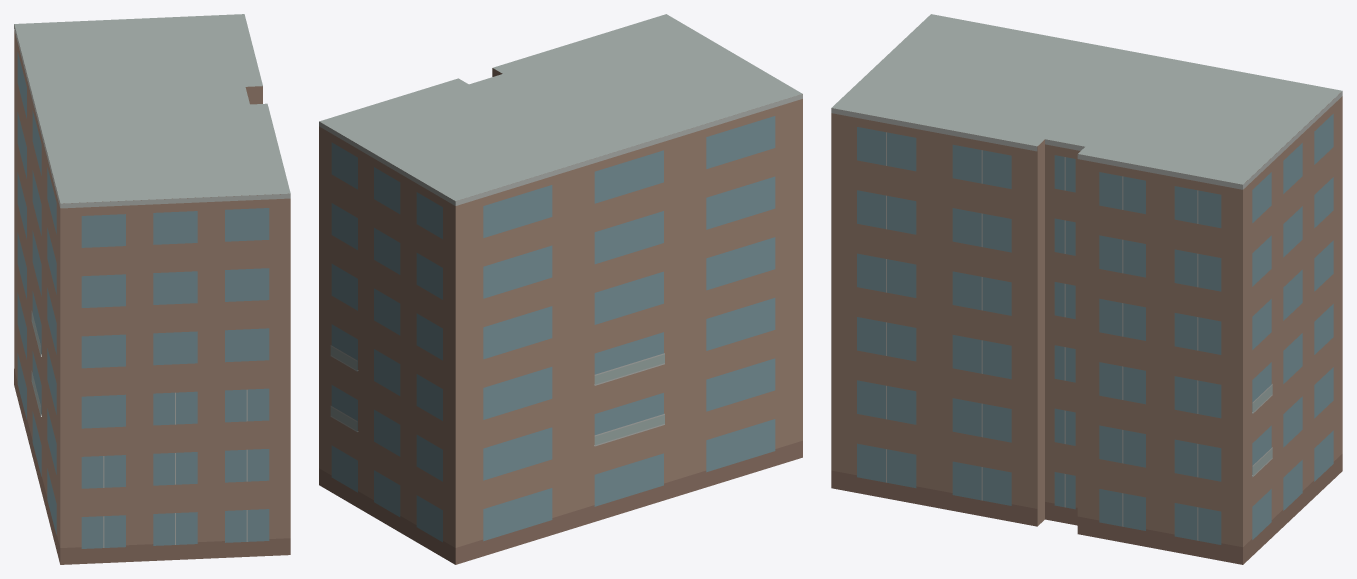
File: survey-upis-32669692.glb
3 views of the same model, side by side, from view 1: azimuth 30°, elevation 25°; view 2: azimuth 150°, elevation 25°; view 3: azimuth 270°, elevation 25° (orthographic). The views are drawn at different scales.
Parts seen in each view (by area): view 1: survey-upis-32669692.tmp; view 2: survey-upis-32669692.tmp; view 3: survey-upis-32669692.tmp.
Boxes of the visible parts, bbox=[...] form: survey-upis-32669692.tmp: bbox=[14, 14, 290, 564]; survey-upis-32669692.tmp: bbox=[319, 14, 802, 564]; survey-upis-32669692.tmp: bbox=[831, 14, 1342, 564].
Bounding box in the file's own units: 17.39 × 18.05 × 22.01.
